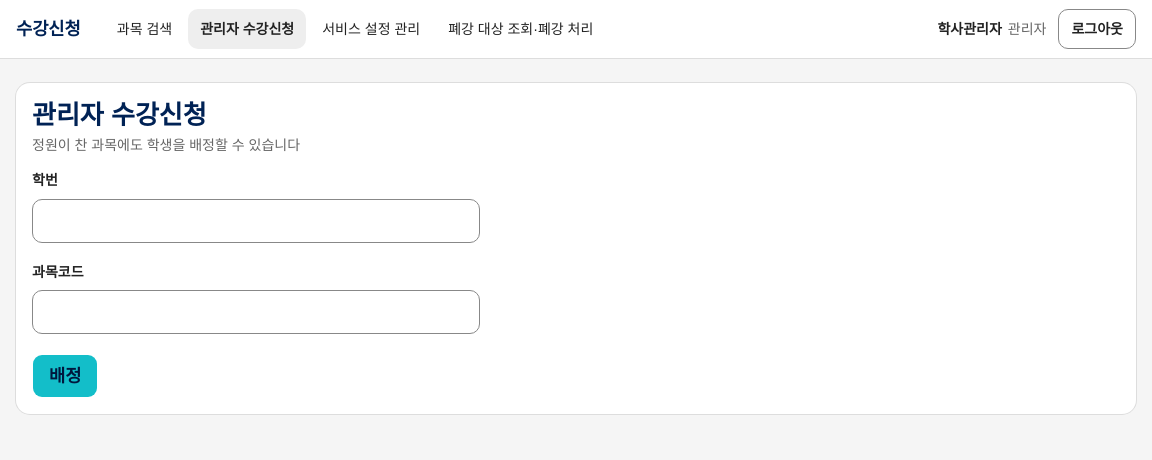
Test: T2-12 20260002 NOP0000 배정 오류
This screenshot has width=1152, height=460.
In the field labelled "학번": (256, 221) top-left (32, 199), bottom-right (480, 243), type "20260002"
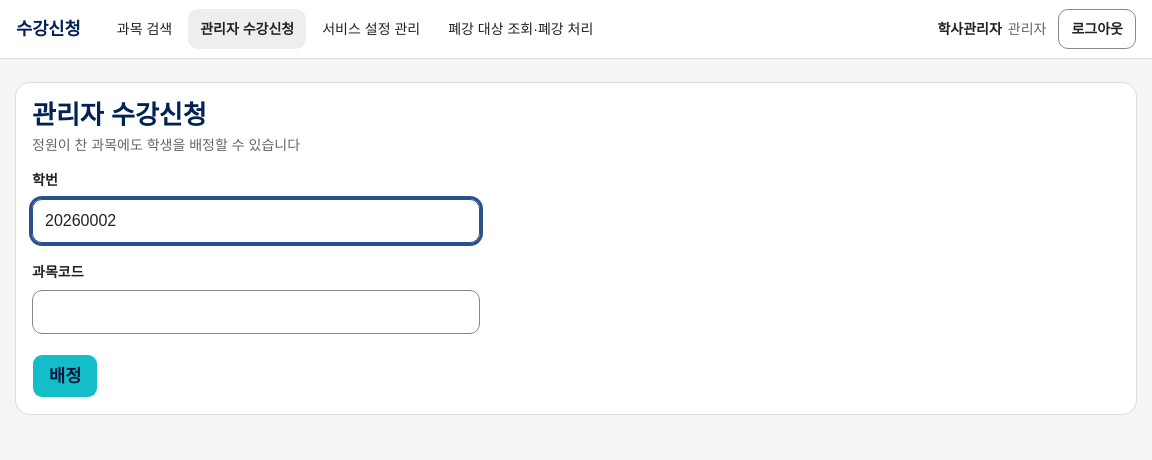
In the field labelled "과목코드": (256, 312) top-left (32, 290), bottom-right (480, 334), type "NOP0000"
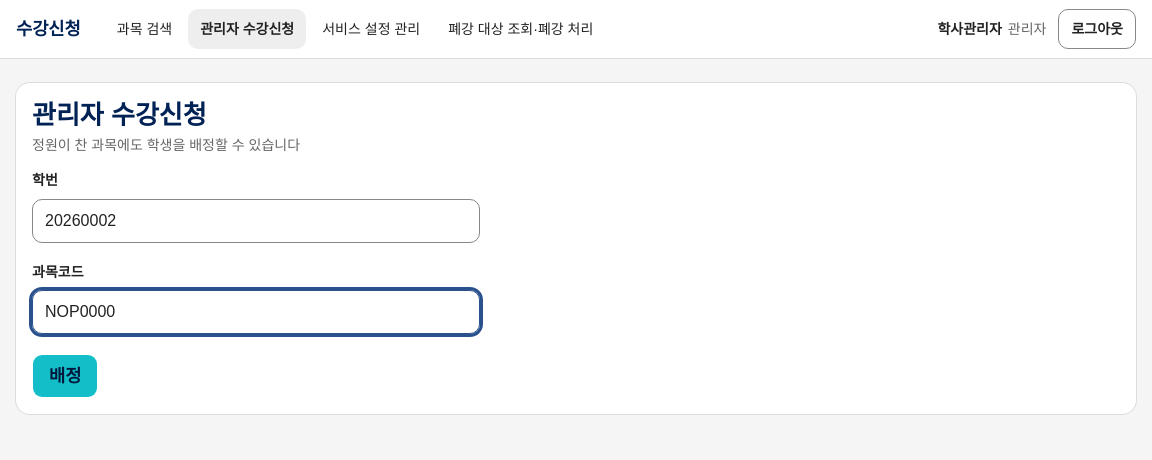
Click the button "배정": (65, 376) top-left (32, 354), bottom-right (98, 398)
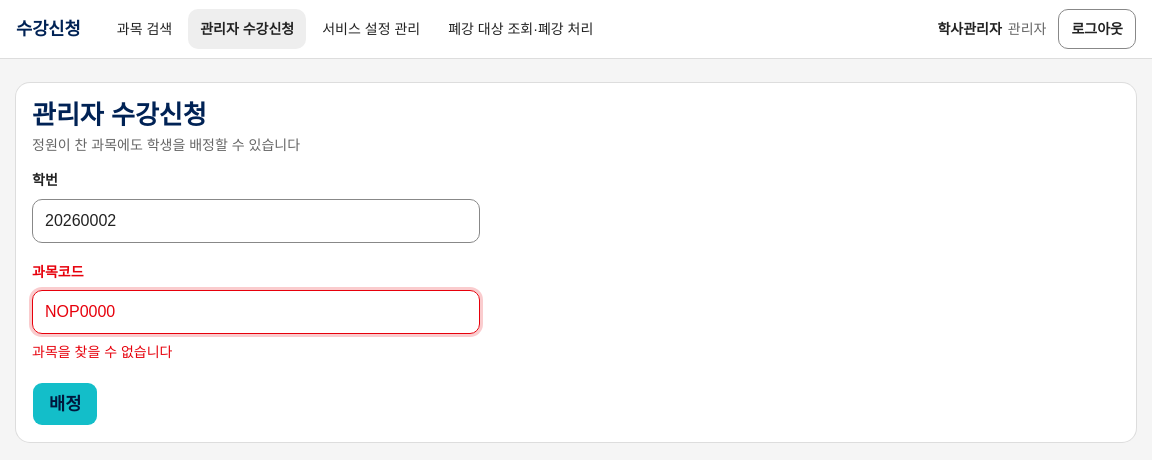
Expected: the text "과목을 찾을 수 없습니다" is shown, top-left (32, 344), bottom-right (172, 360)
